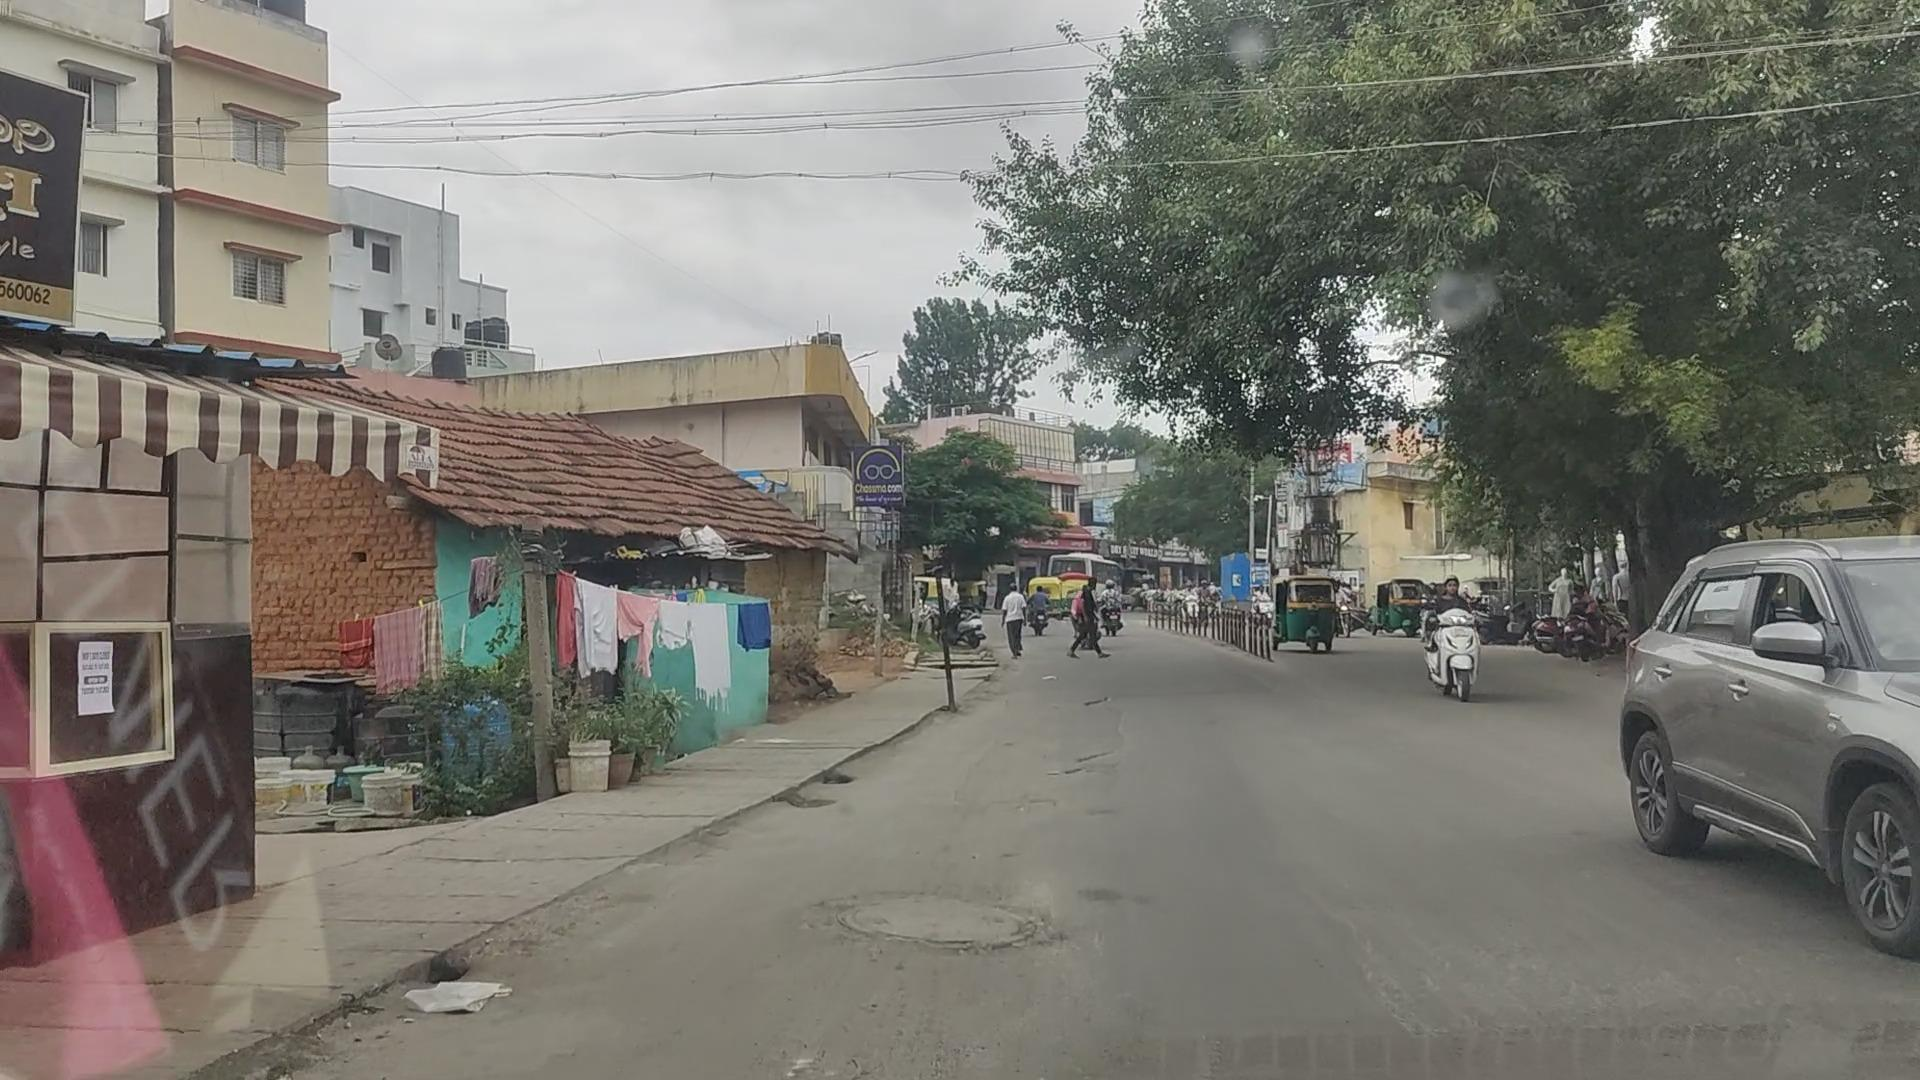RoadDamages: (790, 876, 1098, 984), (1052, 744, 1124, 794), (1072, 684, 1129, 719)
